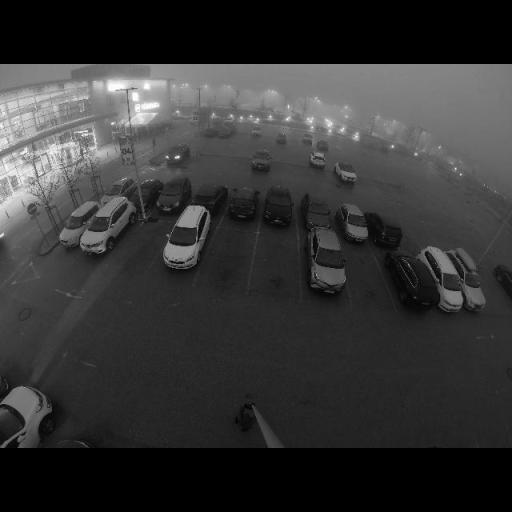busy: (414, 247, 471, 313), (158, 205, 212, 272), (302, 220, 349, 292), (388, 249, 438, 316), (77, 200, 134, 258), (0, 387, 54, 448), (60, 200, 97, 253), (259, 188, 298, 230), (335, 204, 374, 244), (367, 211, 407, 250), (299, 192, 336, 234), (153, 177, 194, 213), (222, 186, 261, 222), (158, 138, 194, 170), (192, 178, 220, 216), (102, 177, 132, 202), (334, 161, 360, 185), (496, 265, 512, 301), (250, 151, 272, 174), (309, 152, 328, 170), (276, 134, 288, 146)
free: (211, 234, 251, 274), (257, 242, 295, 284), (348, 263, 382, 297), (128, 228, 162, 262), (191, 154, 214, 174), (223, 160, 244, 178), (274, 162, 292, 174)
